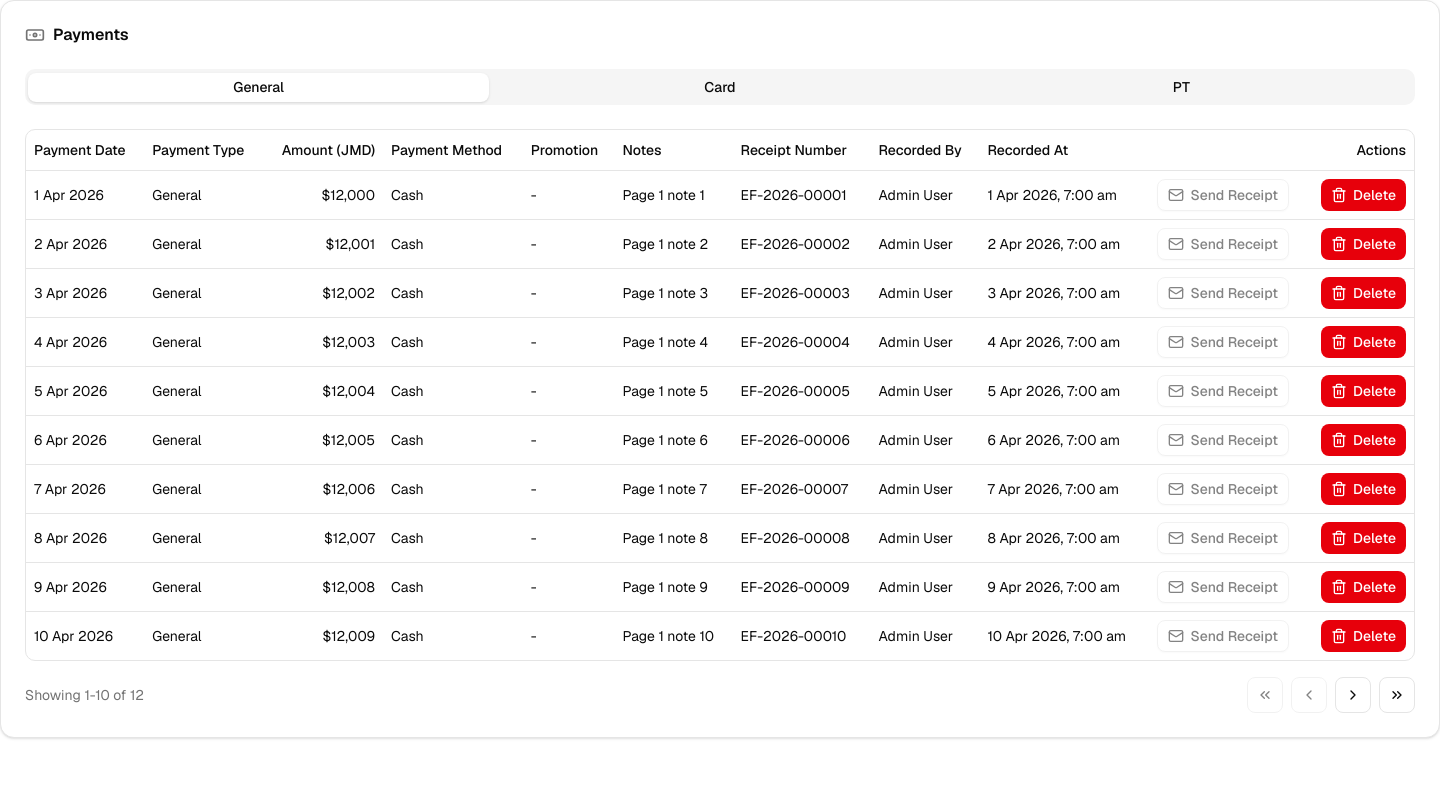
MemberPaymentHistory › renders paginated payment history 10 rows at a time
Expected: the text "Page 2 note 1" is not shown
Click the button named "Go to next page".
click(1353, 694)  # box x1=1335 y1=676 x2=1371 y2=712
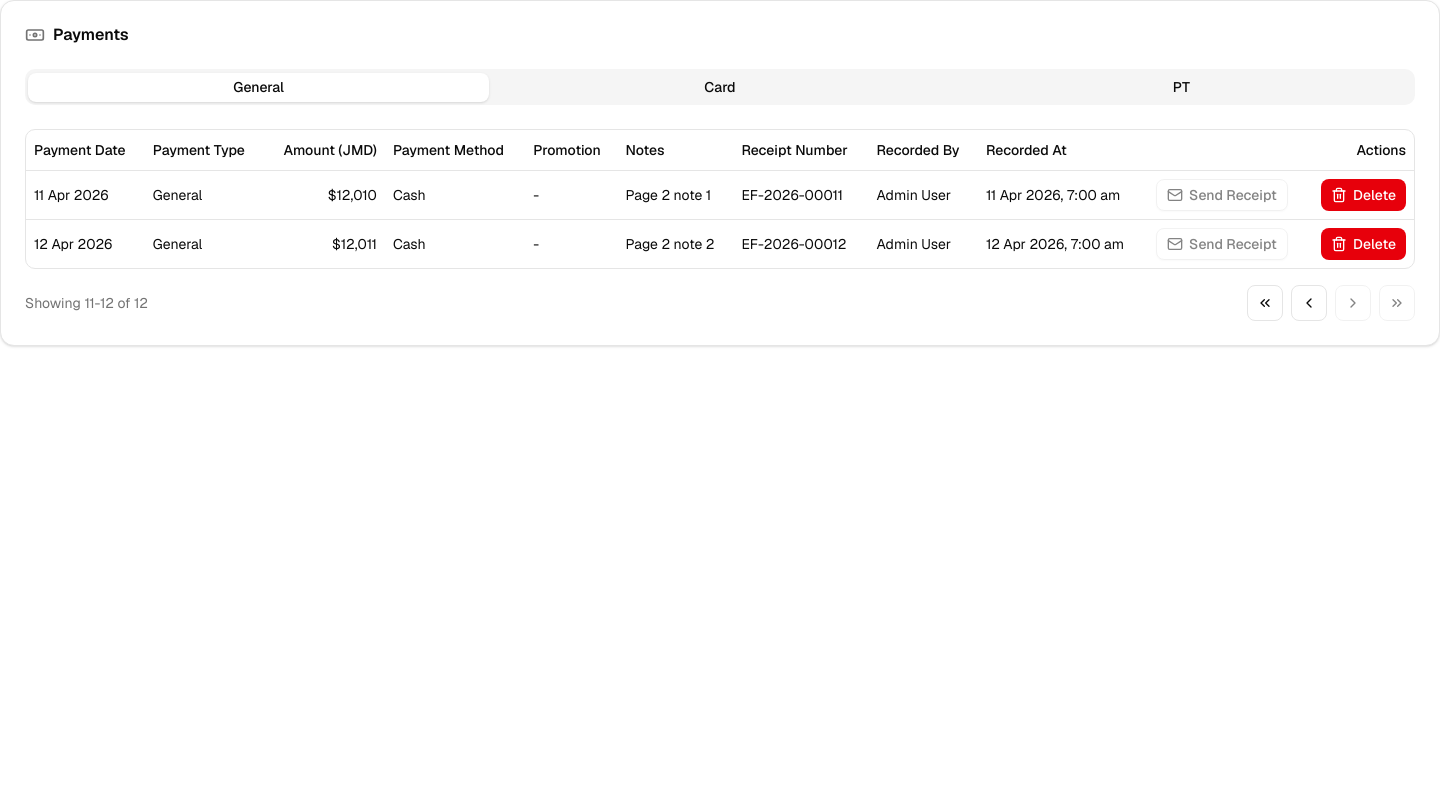
Result: the text "Showing 11-12 of 12" is shown at x1=25 y1=292 x2=148 y2=312
Result: the text "Page 2 note 1" is shown at x1=618 y1=170 x2=733 y2=219
Result: the text "Page 1 note 10" is gone
